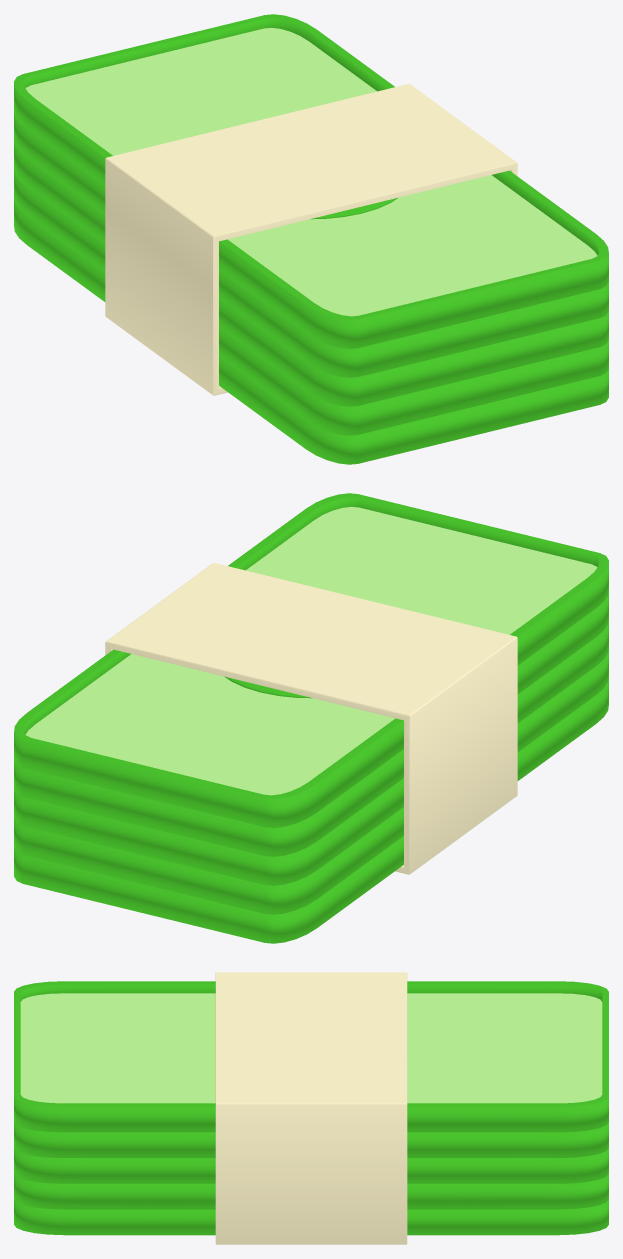
File: Money.glb
3 views of the same model, one above another, from view 1: azimuth 30°, elevation 25°; view 2: azimuth 150°, elevation 25°; view 3: azimuth 270°, elevation 25° (orthographic). The views are drawn at different scales.
Parts seen in each view (by area): view 1: Cash Stack; view 2: Cash Stack; view 3: Cash Stack.
Part boxes in pixels (x1,y1,x2,y2): Cash Stack: (14,14,608,464); Cash Stack: (14,493,608,943); Cash Stack: (14,972,608,1244).
Size of the model in its own units: 2.1 by 1.05 by 4.
Materials: 1 (1 with a texture image).
